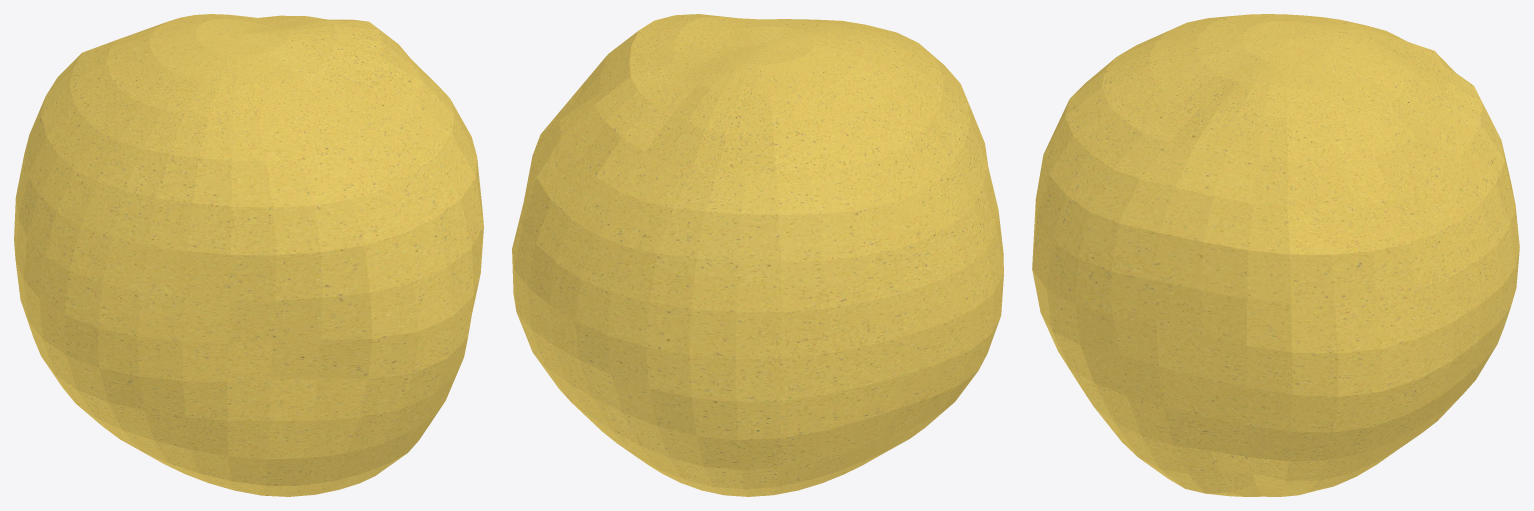
Rendered from esfera version 1.glb.
3 renders of one model, left to right at view 1: azimuth 30°, elevation 25°; view 2: azimuth 150°, elevation 25°; view 3: azimuth 270°, elevation 25°, orthographic. The views are drawn at different scales.
Visible parts, largest first — view 1: Sphere.001; view 2: Sphere.001; view 3: Sphere.001.
Part boxes in pixels (bbox=[...]): Sphere.001: bbox=[14, 14, 483, 496]; Sphere.001: bbox=[512, 14, 1003, 496]; Sphere.001: bbox=[1032, 14, 1519, 496].
Size of the model in its own units: 5.42 by 5.4 by 5.57.
1 material, 1 textured.
